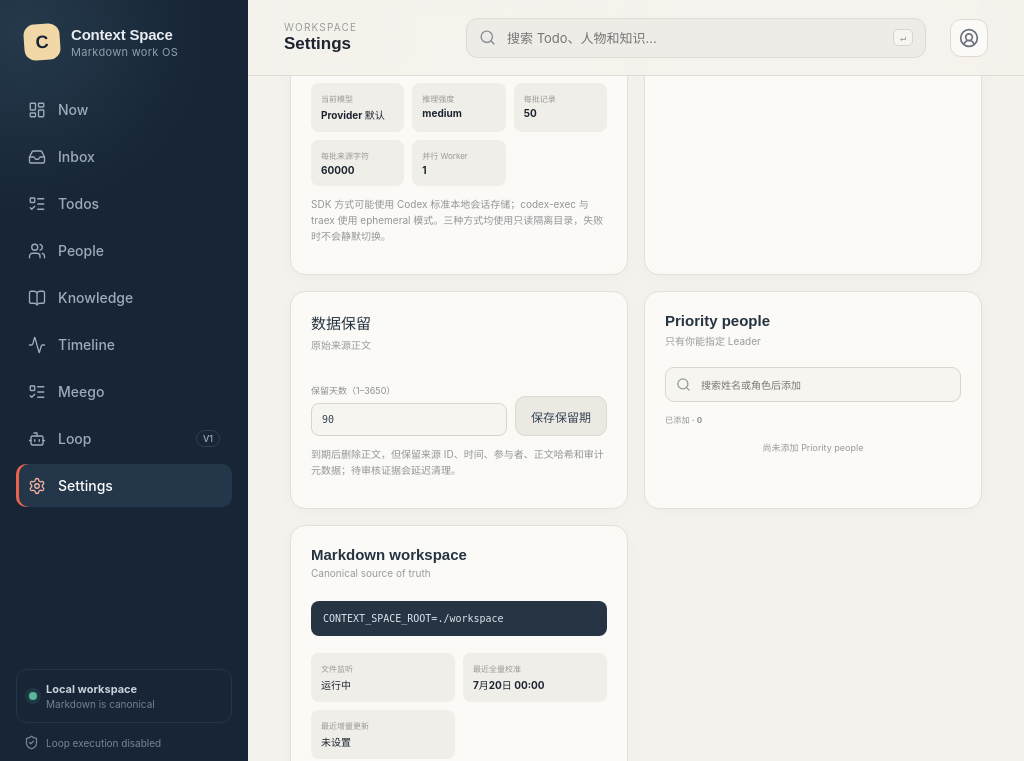
Test case: Context Space workbench › searches, adds, lists, and removes Priority people
(page scrolled)
Check: the text "尚未添加 Priority people" is shown, box [763,442,863,453]
Check: the text "Alice" is not shown
Step 1. Type "Ali" into the search field named "搜索 Priority people" → (824, 385), box [699,378,950,392]
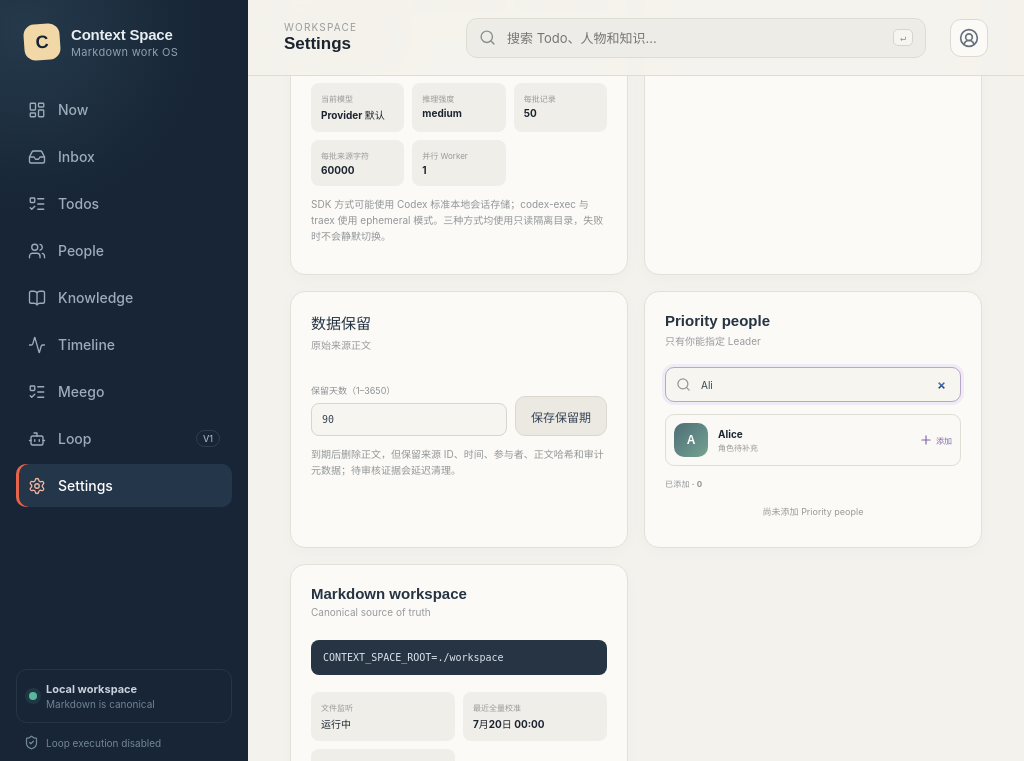
Step 2. Click the button "A Alice 角色待补充 添加" → (691, 440), box [665,414,961,466]
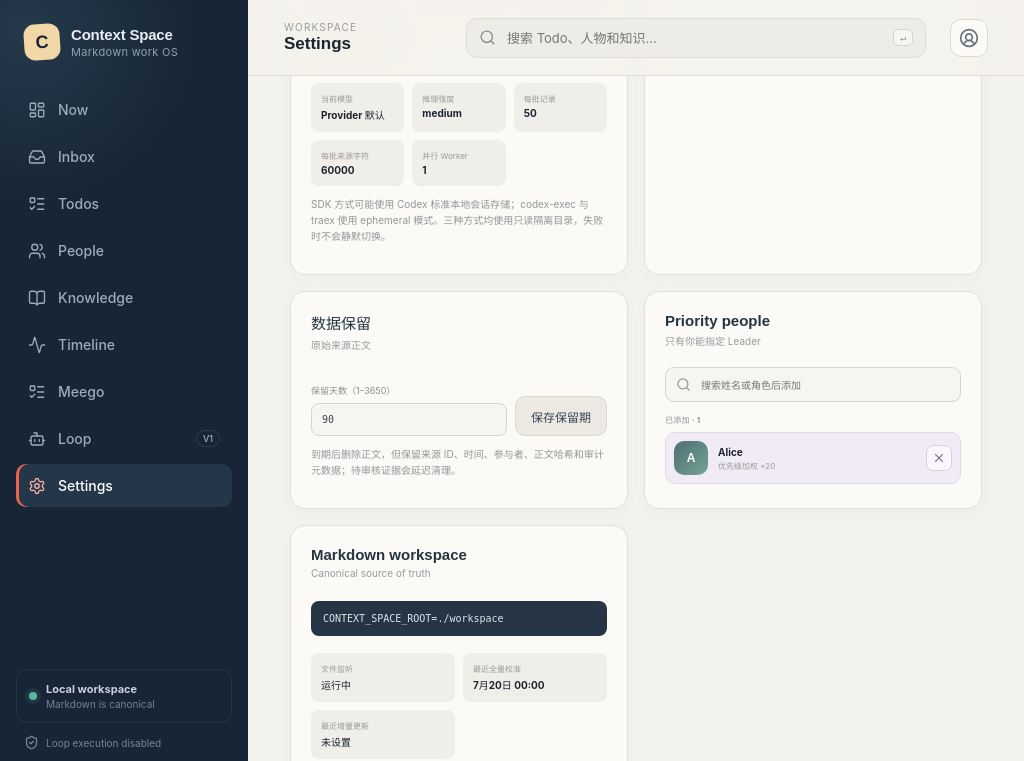
Check: the text "Alice" is shown, box [718,446,743,458]
Check: the text "已添加 · 1" is shown, box [665,415,700,425]
Step 3. Click the button named "移除 Alice" → (939, 458), box [926,445,952,471]
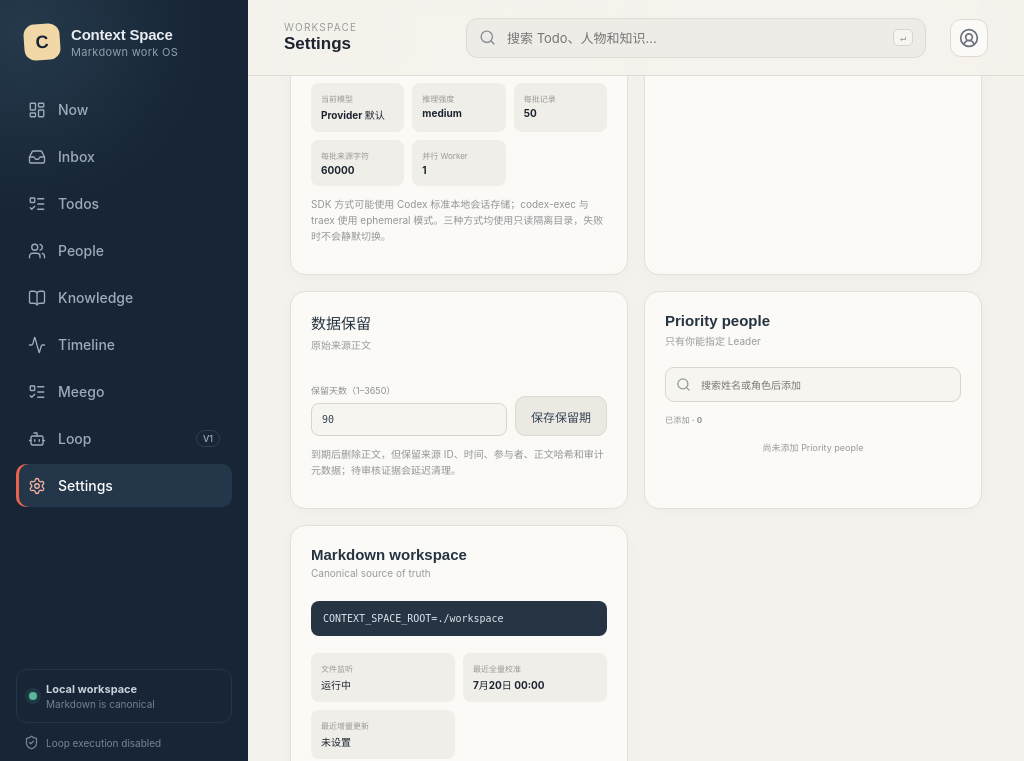
Check: the text "已添加 · 0" is shown, box [665,415,702,425]
Check: the text "Alice" is gone
